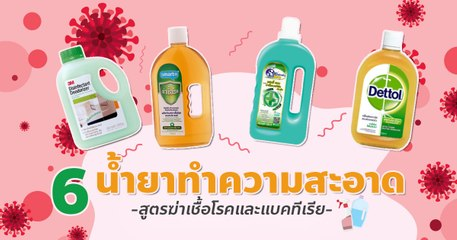Cleaning_solution: (53, 41, 144, 153), (347, 28, 422, 152), (247, 15, 316, 149), (149, 23, 218, 151)
